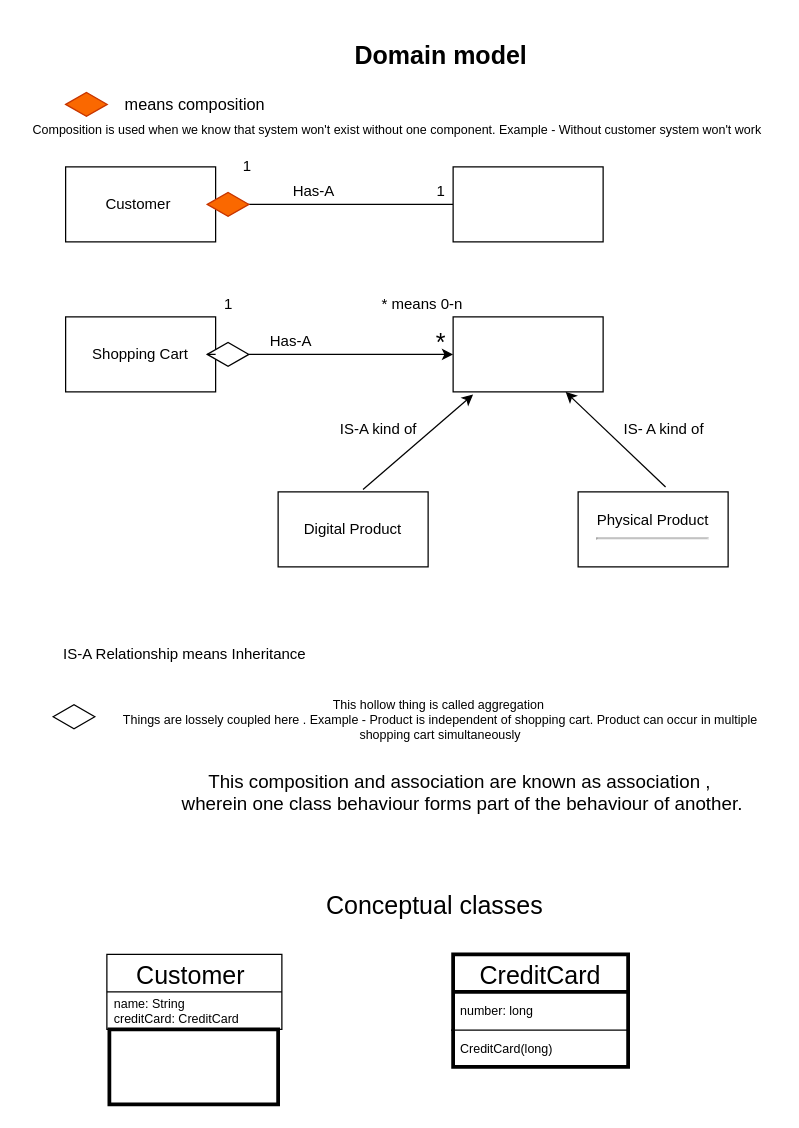
This 799x1128 diagram has some shape labels left out. Here are the shapes that lost their labels. From the top down, the centre of each, then its label:
At [527,204]: "Credit card".
At [527,354]: "Product".
At [193,1066]: "Customer(String,long)".
